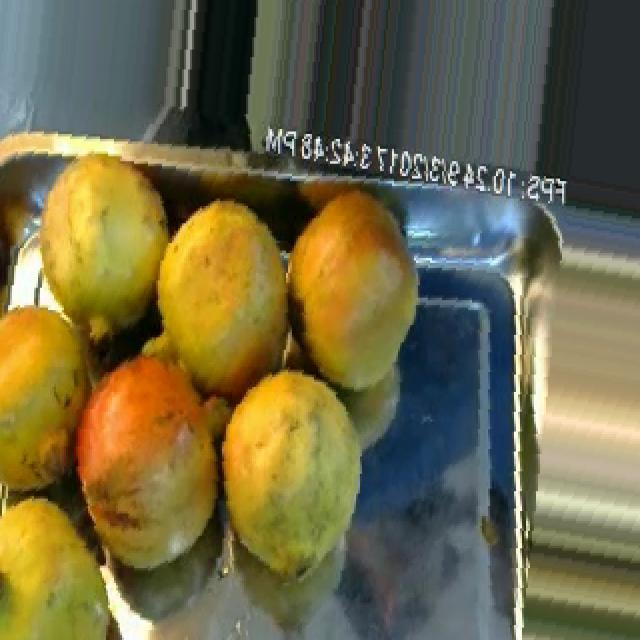fruit: (52, 325, 242, 600), (206, 350, 382, 600), (20, 129, 182, 355), (276, 174, 432, 404), (0, 273, 110, 526)
